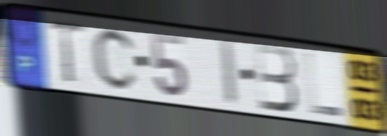5: (148, 30, 189, 98)
B: (253, 42, 301, 114)
C: (91, 25, 140, 92)
I: (219, 38, 240, 109)
L: (303, 50, 345, 119)
T: (46, 18, 87, 86)
